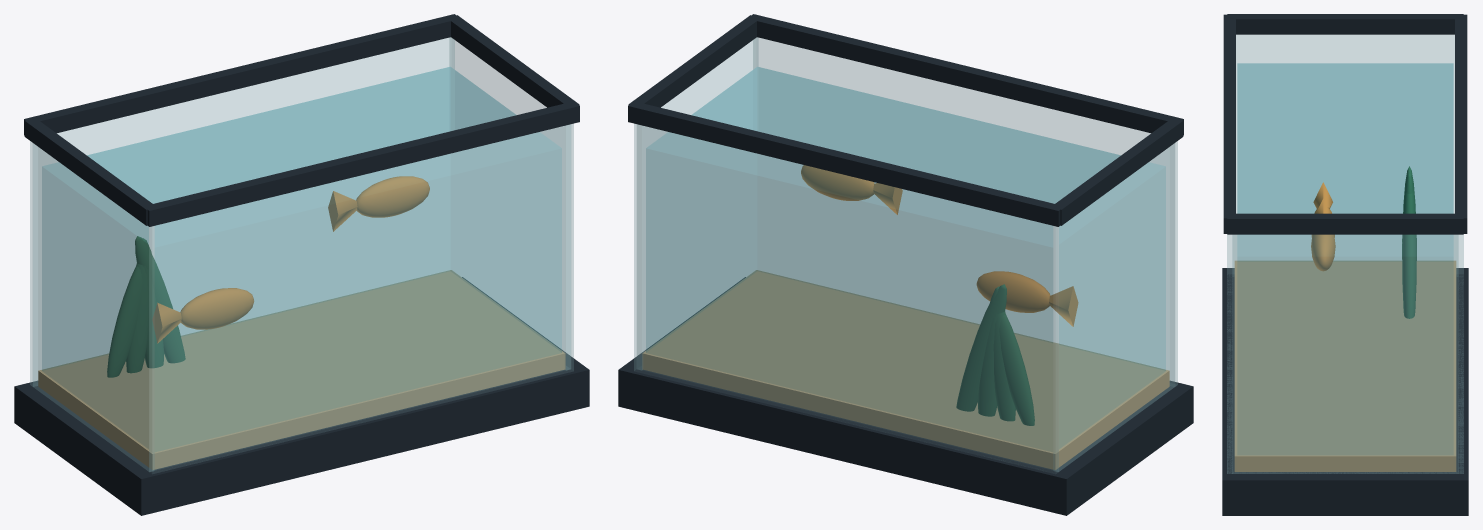
The model's file is aquarium-lod0.glb.
The picture shows the model from 3 angles, left to right: view 1: azimuth 30°, elevation 25°; view 2: azimuth 150°, elevation 25°; view 3: azimuth 270°, elevation 25°; orthographic projection. The views are drawn at different scales.
Parts seen in each view (by area): view 1: glass-0.235, water, sand, glass--0.235, glass-side--0.474, base, rim-front-back (×2), glass-side-0.474, rim-side (×2), aquatic-leaf (×4), fish-1, fish-0 (+2 smaller); view 2: glass--0.235, water, sand, glass-0.235, glass-side--0.474, base, rim-front-back (×2), glass-side-0.474, rim-side (×2), aquatic-leaf (×4), fish-0, fish-1 (+1 smaller); view 3: glass-side-0.474, sand, glass-side--0.474, water, base, rim-side (×2), rim-front-back (×2), aquatic-leaf, glass-0.235, glass--0.235, fish-1.
Part boxes in pixels (box(x1,y1,x2,y2)): glass-0.235: box(149, 124, 573, 473); water: box(42, 67, 561, 370); sand: box(38, 270, 565, 469); glass--0.235: box(30, 37, 454, 386); glass-side--0.474: box(33, 143, 154, 471); base: box(14, 277, 589, 515); rim-front-back (×2): box(24, 14, 579, 226); glass-side-0.474: box(449, 37, 570, 369); rim-side (×2): box(24, 15, 579, 225); aquatic-leaf (×4): box(107, 236, 185, 377); fish-1: box(356, 176, 429, 217); fish-0: box(180, 288, 253, 329); glass--0.235: box(634, 124, 1058, 473); water: box(646, 67, 1165, 370); sand: box(642, 270, 1169, 469); glass-0.235: box(753, 37, 1177, 386); glass-side--0.474: box(1053, 143, 1174, 471); base: box(618, 277, 1193, 515); rim-front-back (×2): box(628, 14, 1183, 226); glass-side-0.474: box(637, 37, 758, 369); rim-side (×2): box(628, 15, 1183, 225); aquatic-leaf (×4): box(956, 284, 1034, 425); fish-0: box(976, 271, 1050, 312); fish-1: box(801, 165, 874, 200); glass-side-0.474: box(1232, 235, 1458, 473); sand: box(1234, 260, 1456, 471); glass-side--0.474: box(1233, 35, 1457, 274); water: box(1237, 63, 1453, 261); base: box(1222, 268, 1468, 515); rim-side (×2): box(1227, 14, 1463, 234); rim-front-back (×2): box(1223, 14, 1467, 233); aquatic-leaf: box(1402, 166, 1416, 318); glass-0.235: box(1227, 234, 1232, 473); glass--0.235: box(1458, 234, 1463, 473); fish-1: box(1311, 234, 1335, 271).
Size of the model in its own units: 1.02 by 0.6575 by 0.5.
